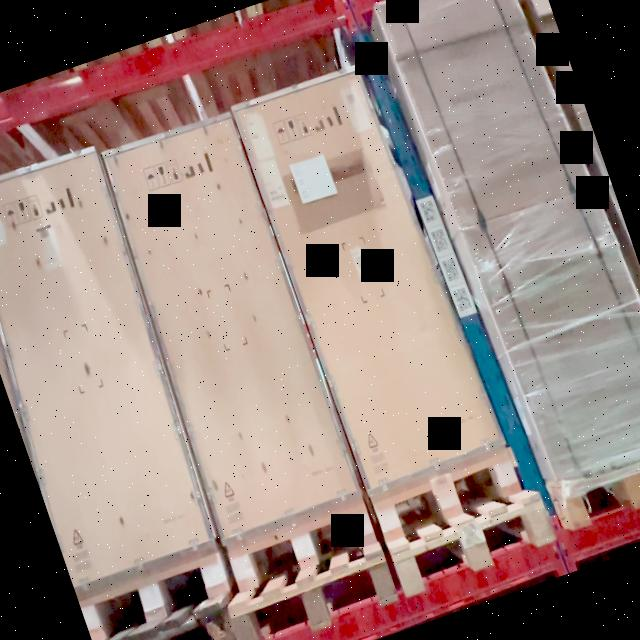box: (235, 66, 502, 492), (102, 110, 362, 541), (461, 184, 640, 484), (375, 0, 596, 228)
